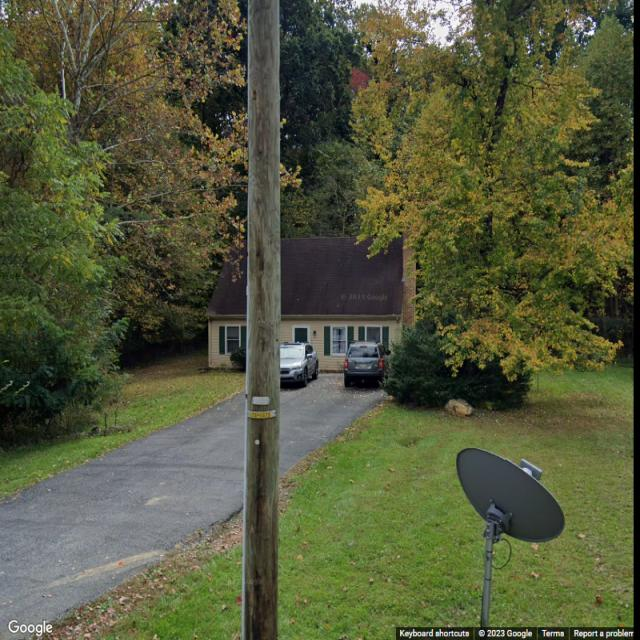House: (202, 236, 416, 371)
